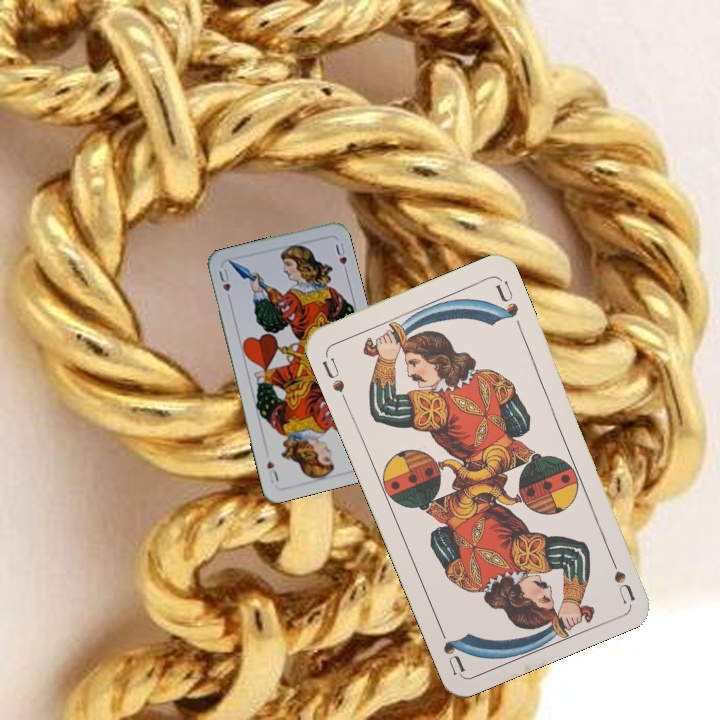HU: (215, 265, 234, 304)
SU: (603, 546, 637, 604), (318, 349, 350, 406)
